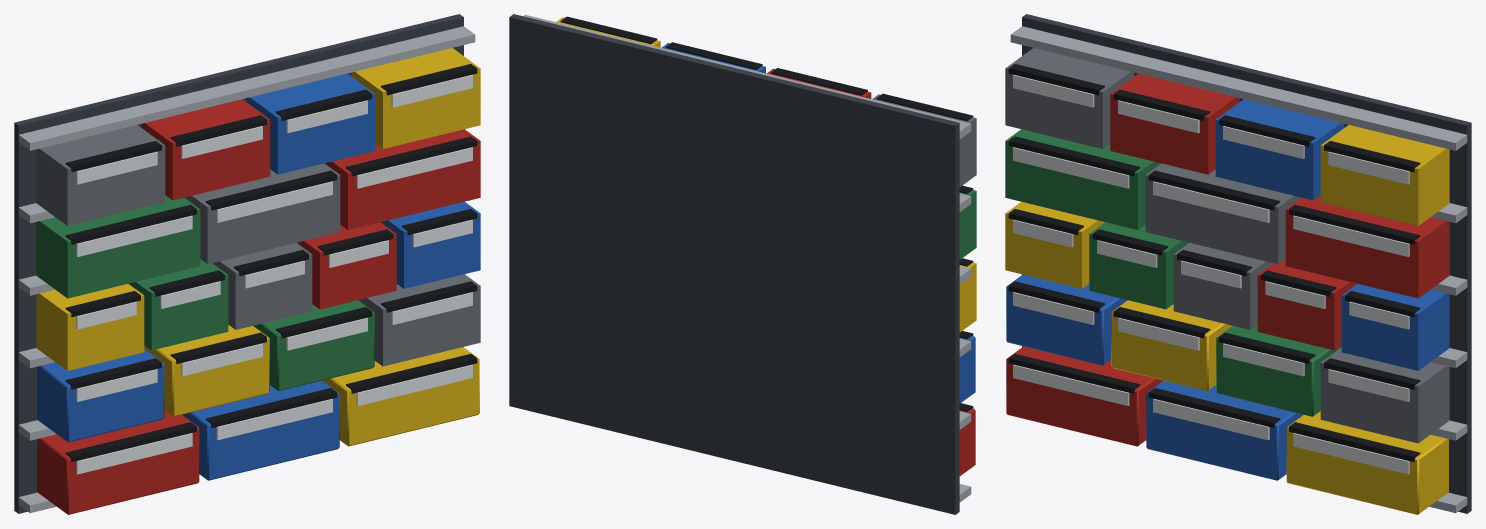
Rendered from shelving_parts_bin_wall.glb.
3 views of the same model, side by side, from view 1: azimuth 30°, elevation 25°; view 2: azimuth 150°, elevation 25°; view 3: azimuth 330°, elevation 25° (orthographic).
Visible parts, largest first — view 1: shelving_parts_bin_wall; view 2: shelving_parts_bin_wall; view 3: shelving_parts_bin_wall.
Boxes of the visible parts, bbox=[...] form: shelving_parts_bin_wall: bbox=[14, 14, 480, 514]; shelving_parts_bin_wall: bbox=[509, 14, 976, 514]; shelving_parts_bin_wall: bbox=[1005, 14, 1471, 514].
Bounding box in the file's own units: 1.8 × 1.5 × 0.268.
